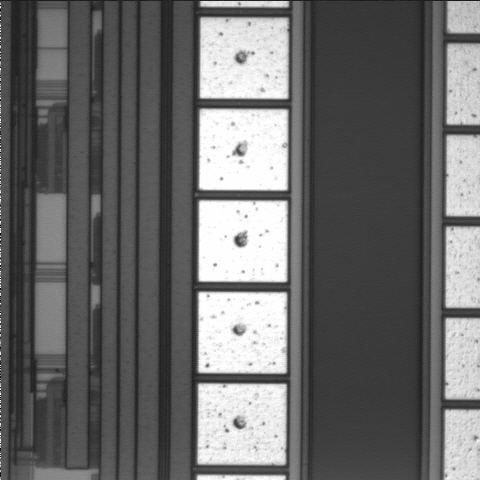pad: (198, 200, 288, 282), (199, 109, 288, 190), (198, 292, 287, 373), (197, 384, 286, 465), (200, 18, 288, 99)
